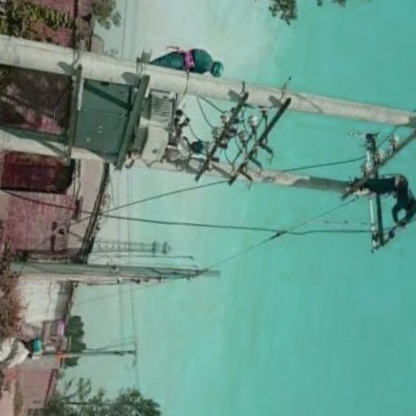blue: (28, 334, 44, 360), (211, 58, 227, 82), (195, 136, 208, 160), (414, 197, 416, 217)
